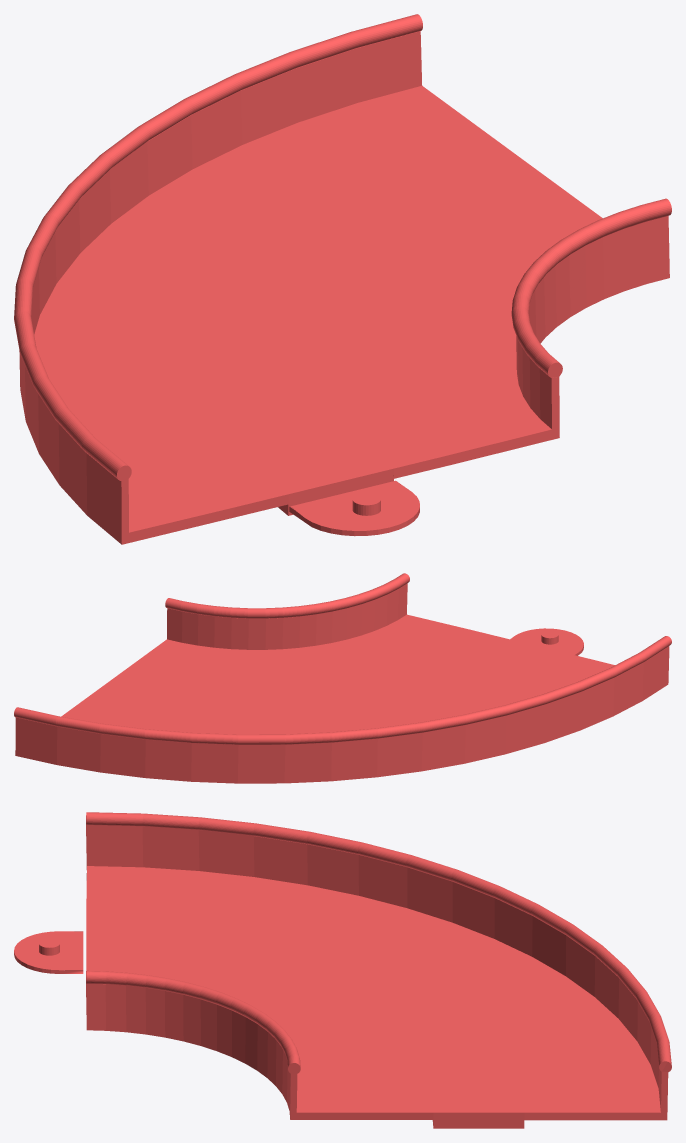
The model's file is trackpiece-curve-90.glb.
3 views of the same model, one above another, from view 1: azimuth 30°, elevation 25°; view 2: azimuth 150°, elevation 25°; view 3: azimuth 270°, elevation 25° (orthographic). The views are drawn at different scales.
Visible parts, largest first — view 1: Track piece/short, Track piece/short.001; view 2: Track piece/short, Track piece/short.001; view 3: Track piece/short, Track piece/short.001.
Part boxes in pixels (<box>): Track piece/short: <box>14,14,671,544</box>; Track piece/short.001: <box>289,480,419,536</box>; Track piece/short: <box>14,573,671,783</box>; Track piece/short.001: <box>510,628,583,655</box>; Track piece/short: <box>86,812,671,1128</box>; Track piece/short.001: <box>14,931,83,973</box>.
Bounding box in the file's own units: 12.92 × 1.61 × 14.28.
